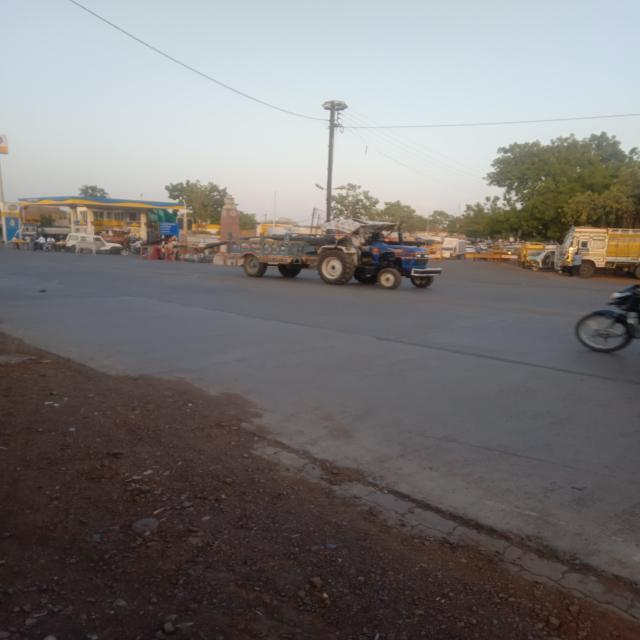tractor_front: (224, 212, 447, 300)
